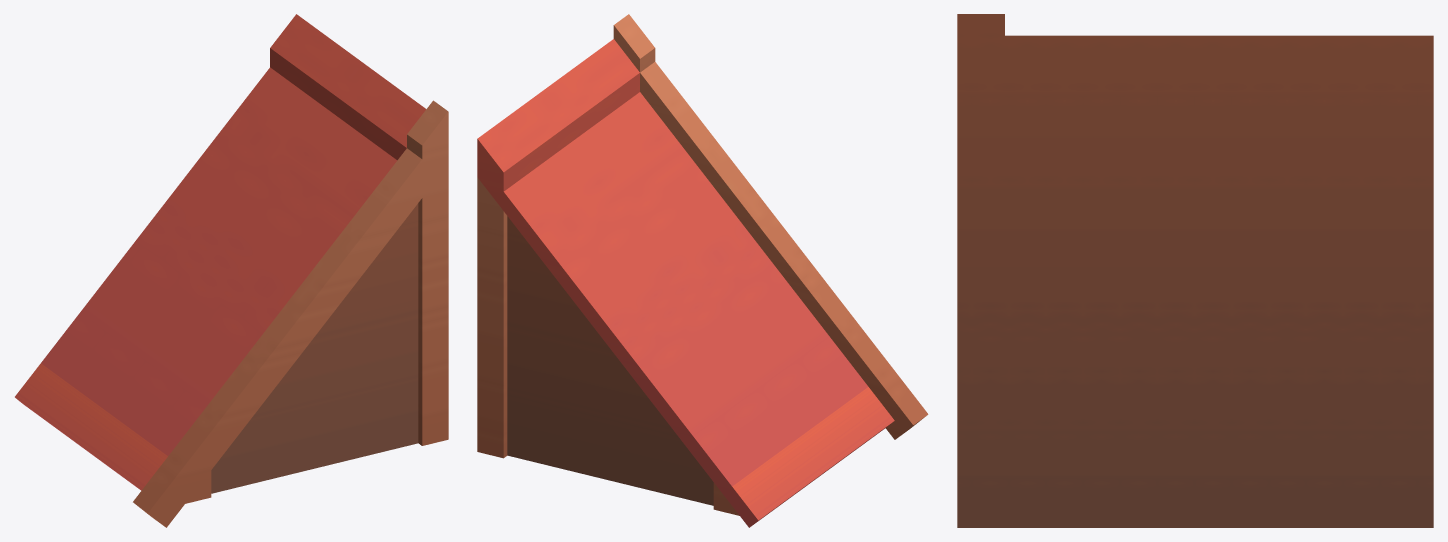
File: roofHighRight.fbx
3 views of the same model, side by side, from view 1: azimuth 30°, elevation 25°; view 2: azimuth 150°, elevation 25°; view 3: azimuth 270°, elevation 25° (orthographic). The views are drawn at different scales.
Parts seen in each view (by area): view 1: roofHighRight; view 2: roofHighRight; view 3: roofHighRight.
Boxes of the visible parts, x1,y1,x2,y2 form: roofHighRight: [15, 14, 448, 527]; roofHighRight: [477, 14, 928, 527]; roofHighRight: [957, 14, 1433, 527].
Bounding box in the file's own units: 1.14 × 1 × 1.26.
